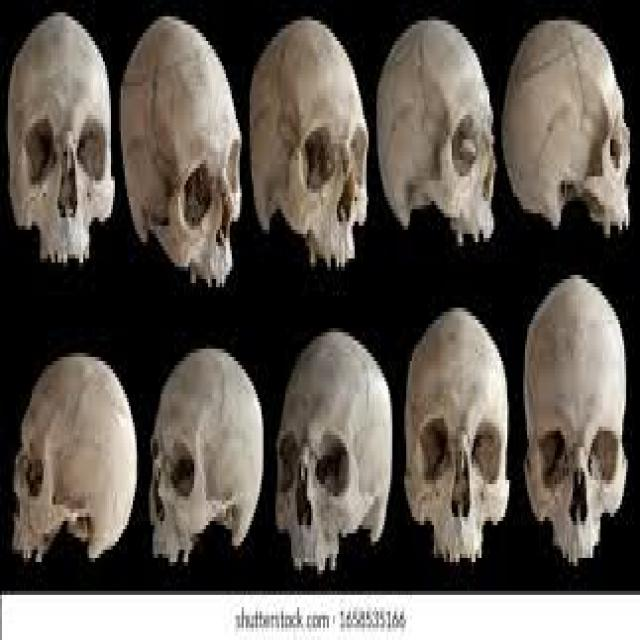skull: (115, 8, 246, 313), (520, 266, 632, 584)
